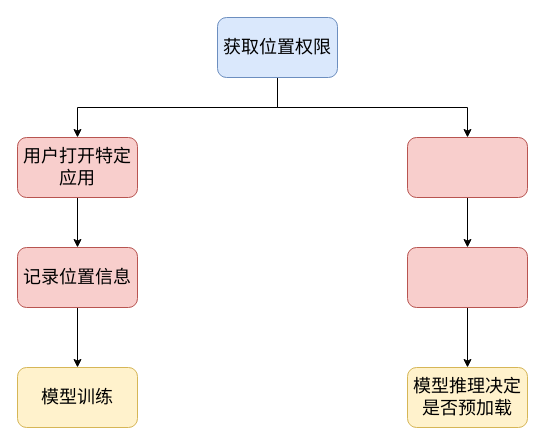
Some shapes in this 545 by 445 pixel diagram are drawn without their labels. Here are the shapes that lost their labels. From the top down, the centre of each, then its label:
(467,167): 用户解锁
(467,277): 获取位置信息
